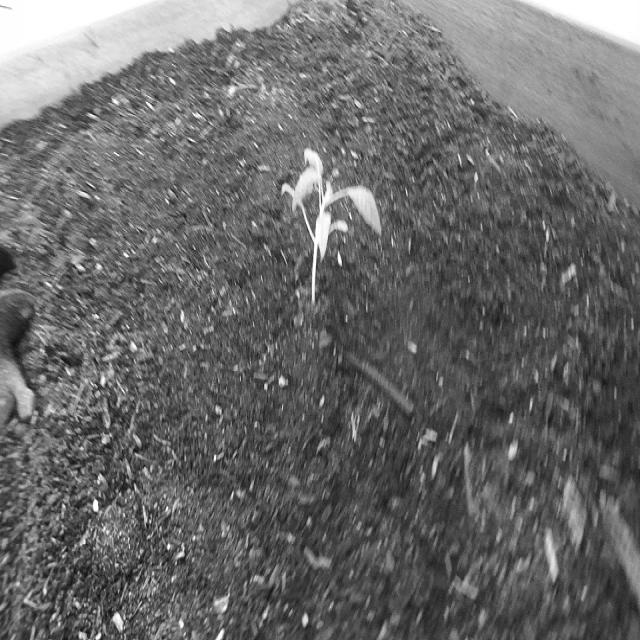Healthy: (268, 134, 392, 326)
